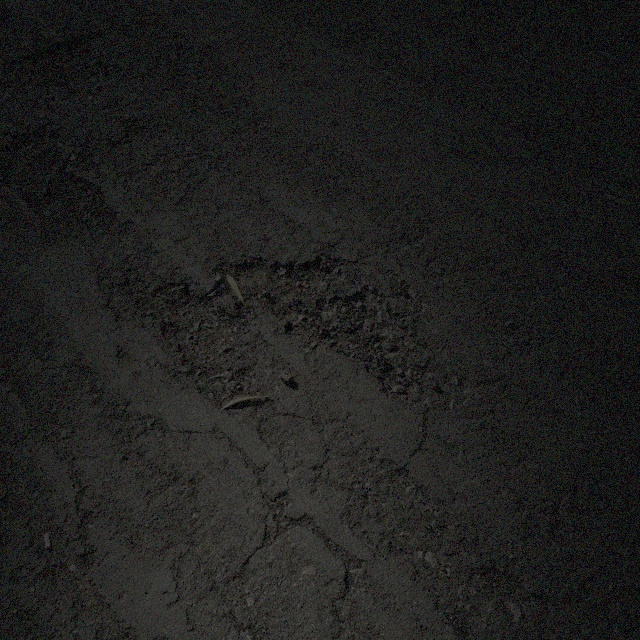pothole: (140, 252, 428, 412), (0, 124, 124, 231), (1, 32, 123, 100)
